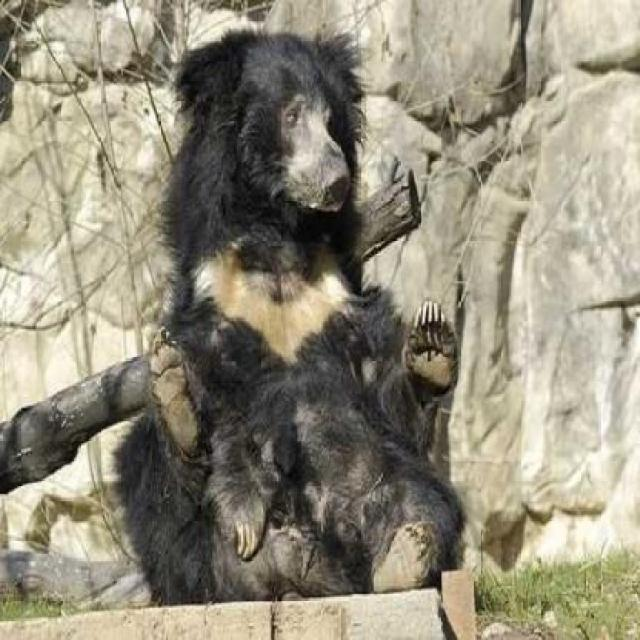Bear: (112, 10, 473, 624)
